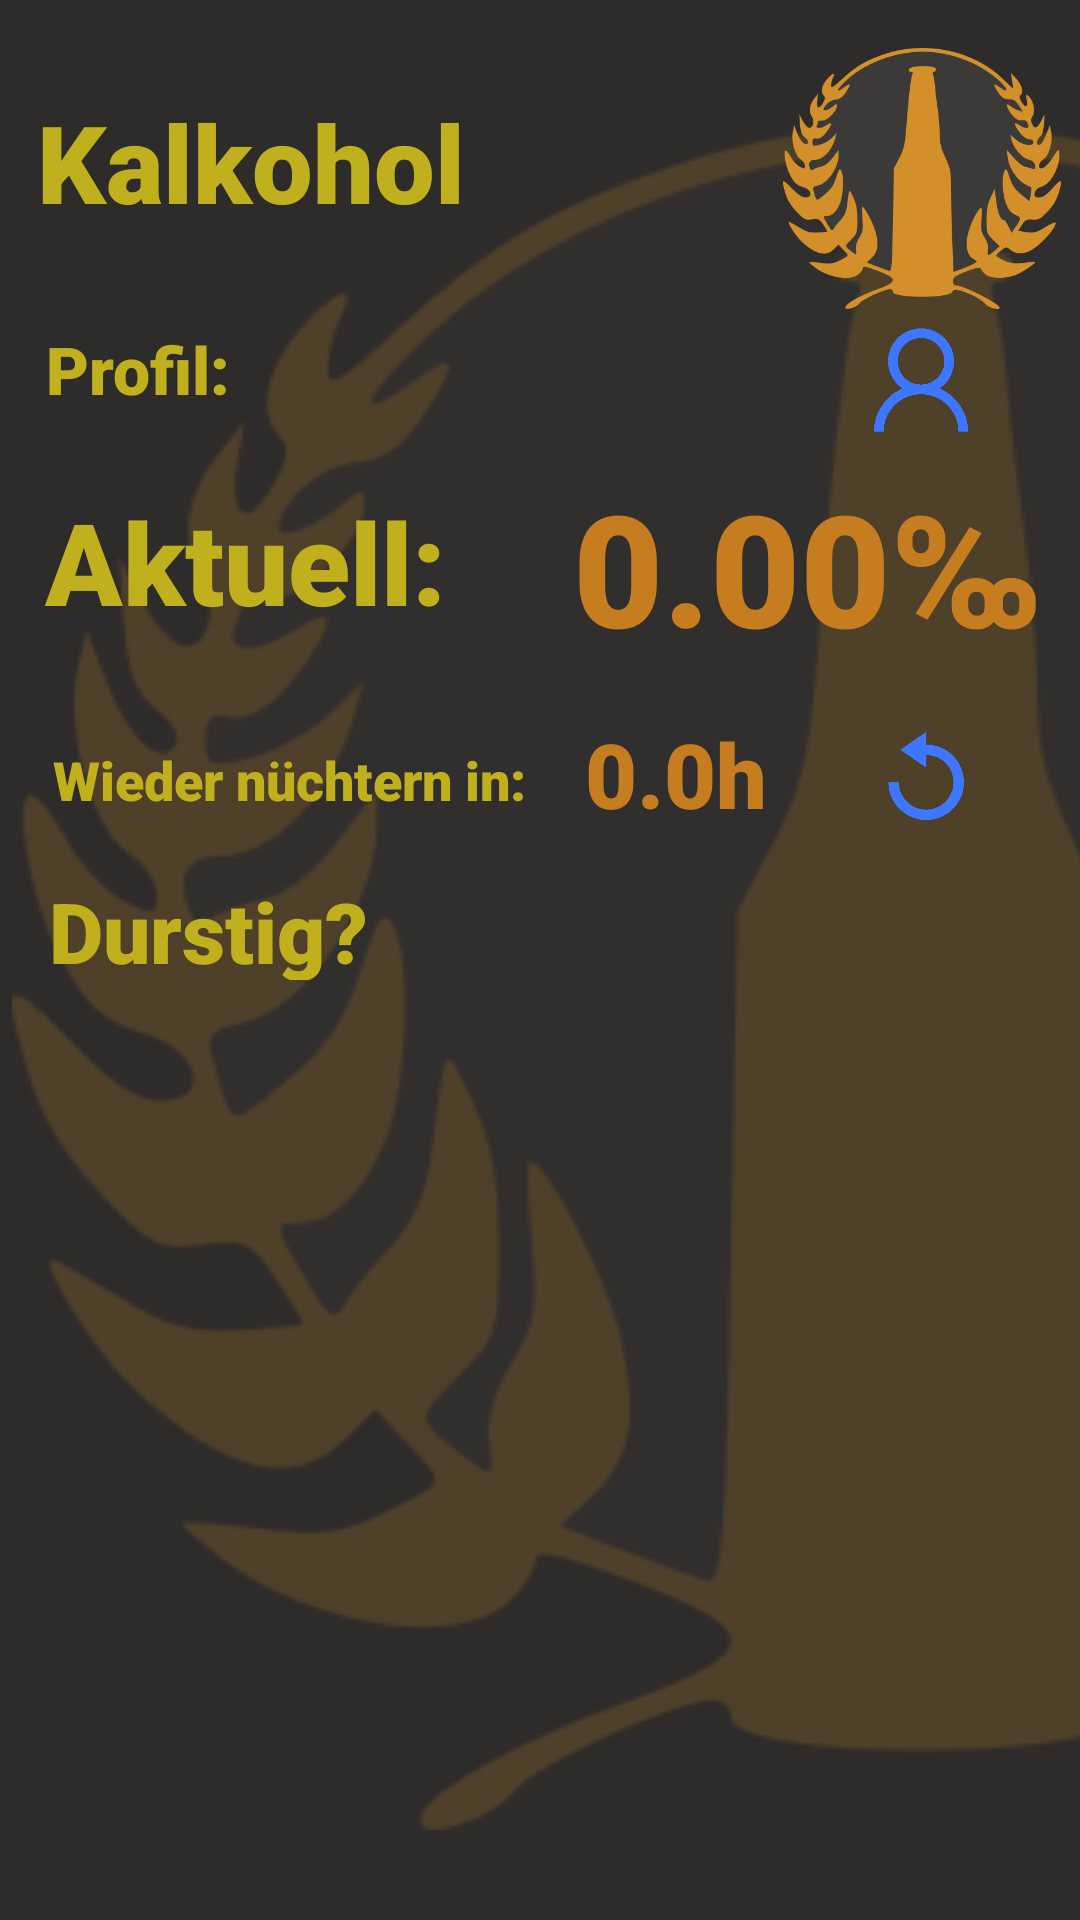

Point at icon controls on the screen. Image size 1080px×1920px, points as (x,y).
reset: (926,776)
user: (921,380)
